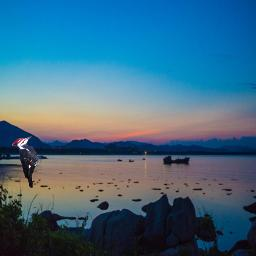Woodpecker: (12, 136, 41, 188)
